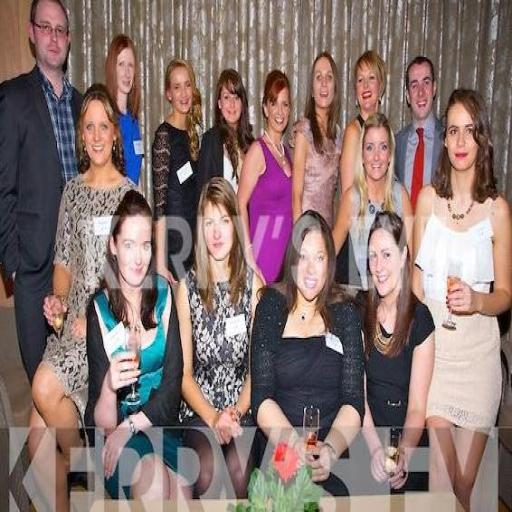person: (29, 85, 132, 510), (414, 89, 511, 510), (251, 210, 364, 494), (0, 0, 81, 382), (86, 190, 182, 499), (177, 177, 262, 497), (363, 212, 435, 490), (333, 113, 412, 289), (238, 70, 293, 282), (152, 59, 201, 282), (293, 52, 341, 226), (396, 56, 444, 209), (198, 69, 254, 192), (341, 50, 386, 195), (105, 35, 143, 185)
